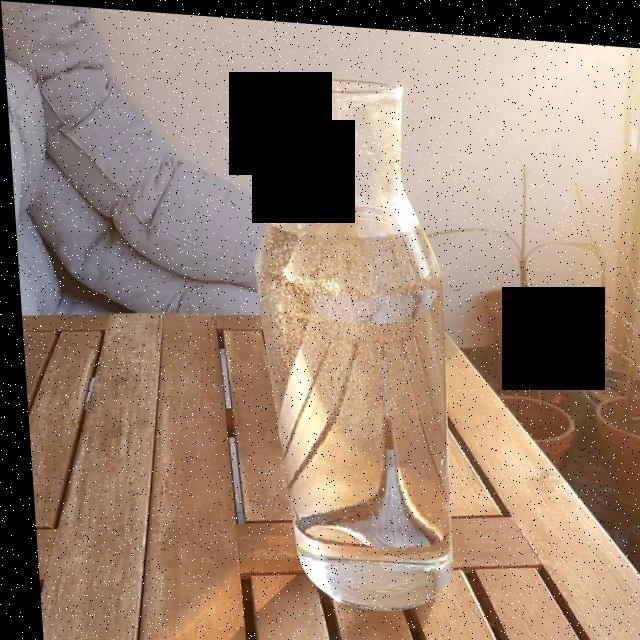drink: (271, 214, 440, 552)
